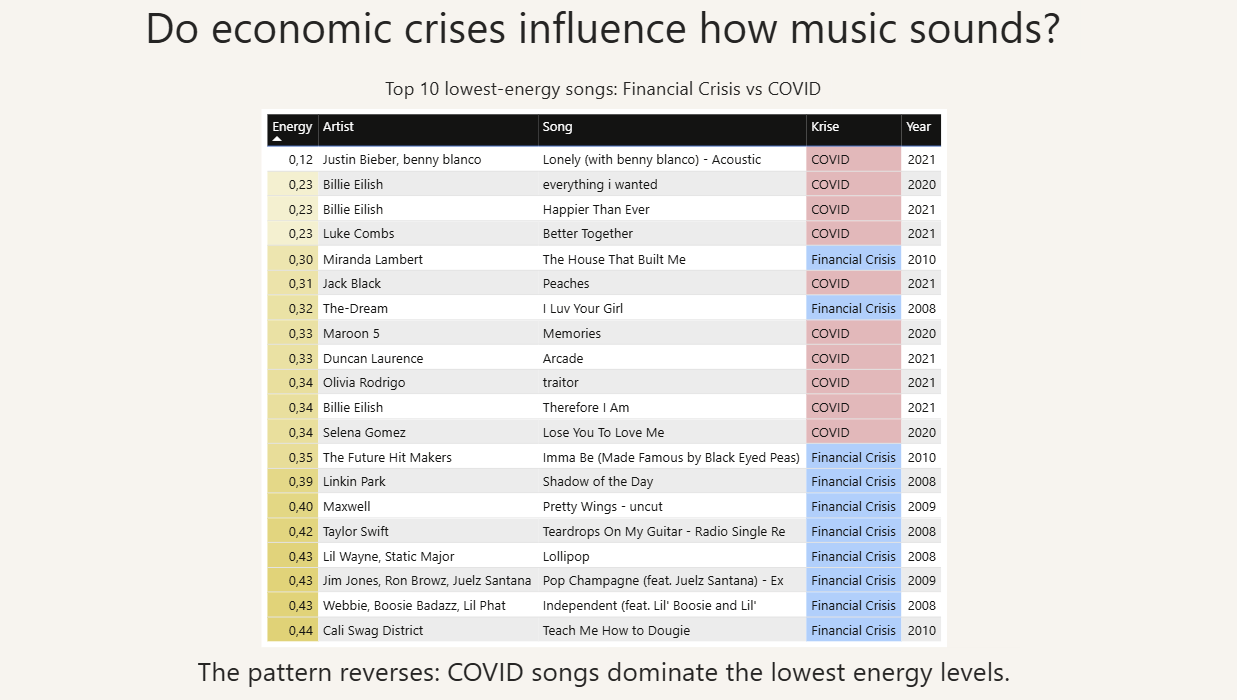

Layout of this report page (visuals, bound fields, positions):
{"tool":"powerbi","page":{"name":"Energy_LowSongs_Comparison","canvas":[1280,720],"ordinal":4},"visuals":[{"type":"tableEx","fields":{"Values":["songs_vergleich.Energy","songs_vergleich.Artist","songs_vergleich.Song","songs_vergleich.Krise","songs_vergleich.year"]},"box":[292.2,118.1,692,543.6],"z":1000},{"type":"textbox","box":[169.6,0,949.4,68.1],"z":2000},{"type":"textbox","box":[411.9,78.7,455.8,39.4],"z":3000},{"type":"textbox","box":[223.3,661.7,835,58.3],"z":4000}]}

Visuals, with their boxes in screenshot pixels (x1, y1, x2, y2), scaled from the page's 1280x720 canvas onto the 1237x700 screenshot:
tableEx - songs_vergleich.Energy x songs_vergleich.Artist: locate(282, 115, 951, 643)
textbox: locate(164, 0, 1081, 66)
textbox: locate(398, 77, 839, 115)
textbox: locate(216, 643, 1023, 699)
